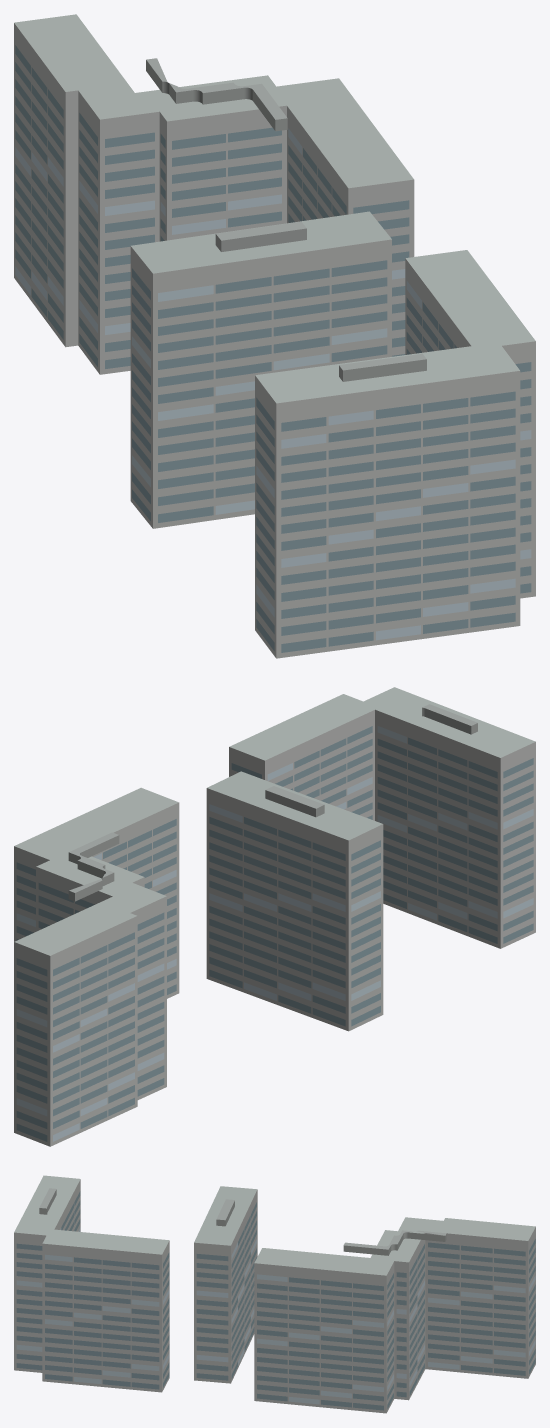
Rendered from apt-a13985904.glb.
3 views of the same model, one above another, from view 1: azimuth 30°, elevation 25°; view 2: azimuth 150°, elevation 25°; view 3: azimuth 270°, elevation 25° (orthographic). The views are drawn at different scales.
Parts seen in each view (by area): view 1: apt-a13985904; view 2: apt-a13985904; view 3: apt-a13985904.
Part boxes in pixels (x1,y1,x2,y2): apt-a13985904: [14, 14, 535, 658]; apt-a13985904: [14, 687, 535, 1146]; apt-a13985904: [14, 1175, 535, 1413].
Bounding box in the file's own units: 71.34 × 47.81 × 157.
